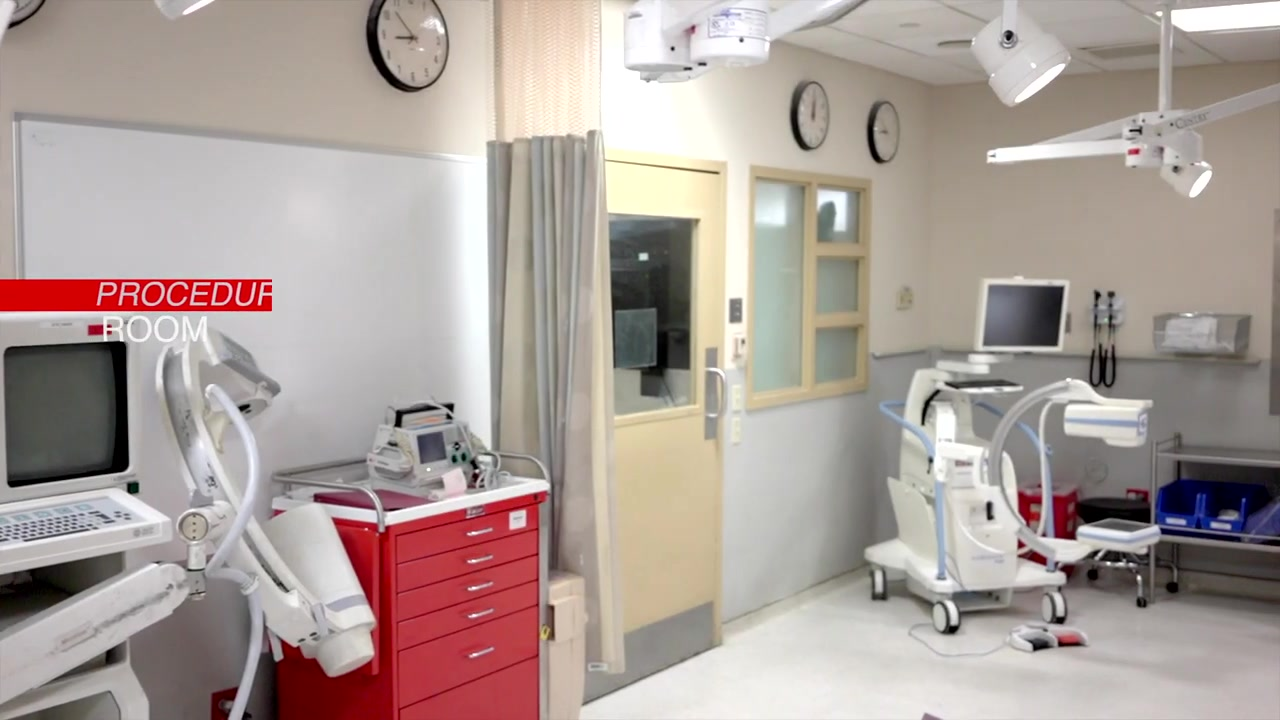bedside_monitor: (1, 314, 138, 504), (977, 279, 1071, 351)
chair: (1055, 497, 1179, 608)
curtain: (487, 1, 626, 674)
door_handle: (705, 367, 728, 422)
handle: (463, 551, 499, 568), (463, 607, 500, 623), (462, 524, 496, 541), (463, 577, 496, 594), (466, 644, 497, 660)
keyboard: (1, 487, 174, 574)
light_switch: (730, 384, 746, 411), (729, 419, 745, 446)
medical_drawer: (274, 446, 549, 720)
surgical_light: (970, 27, 1071, 106), (1159, 157, 1213, 198)
